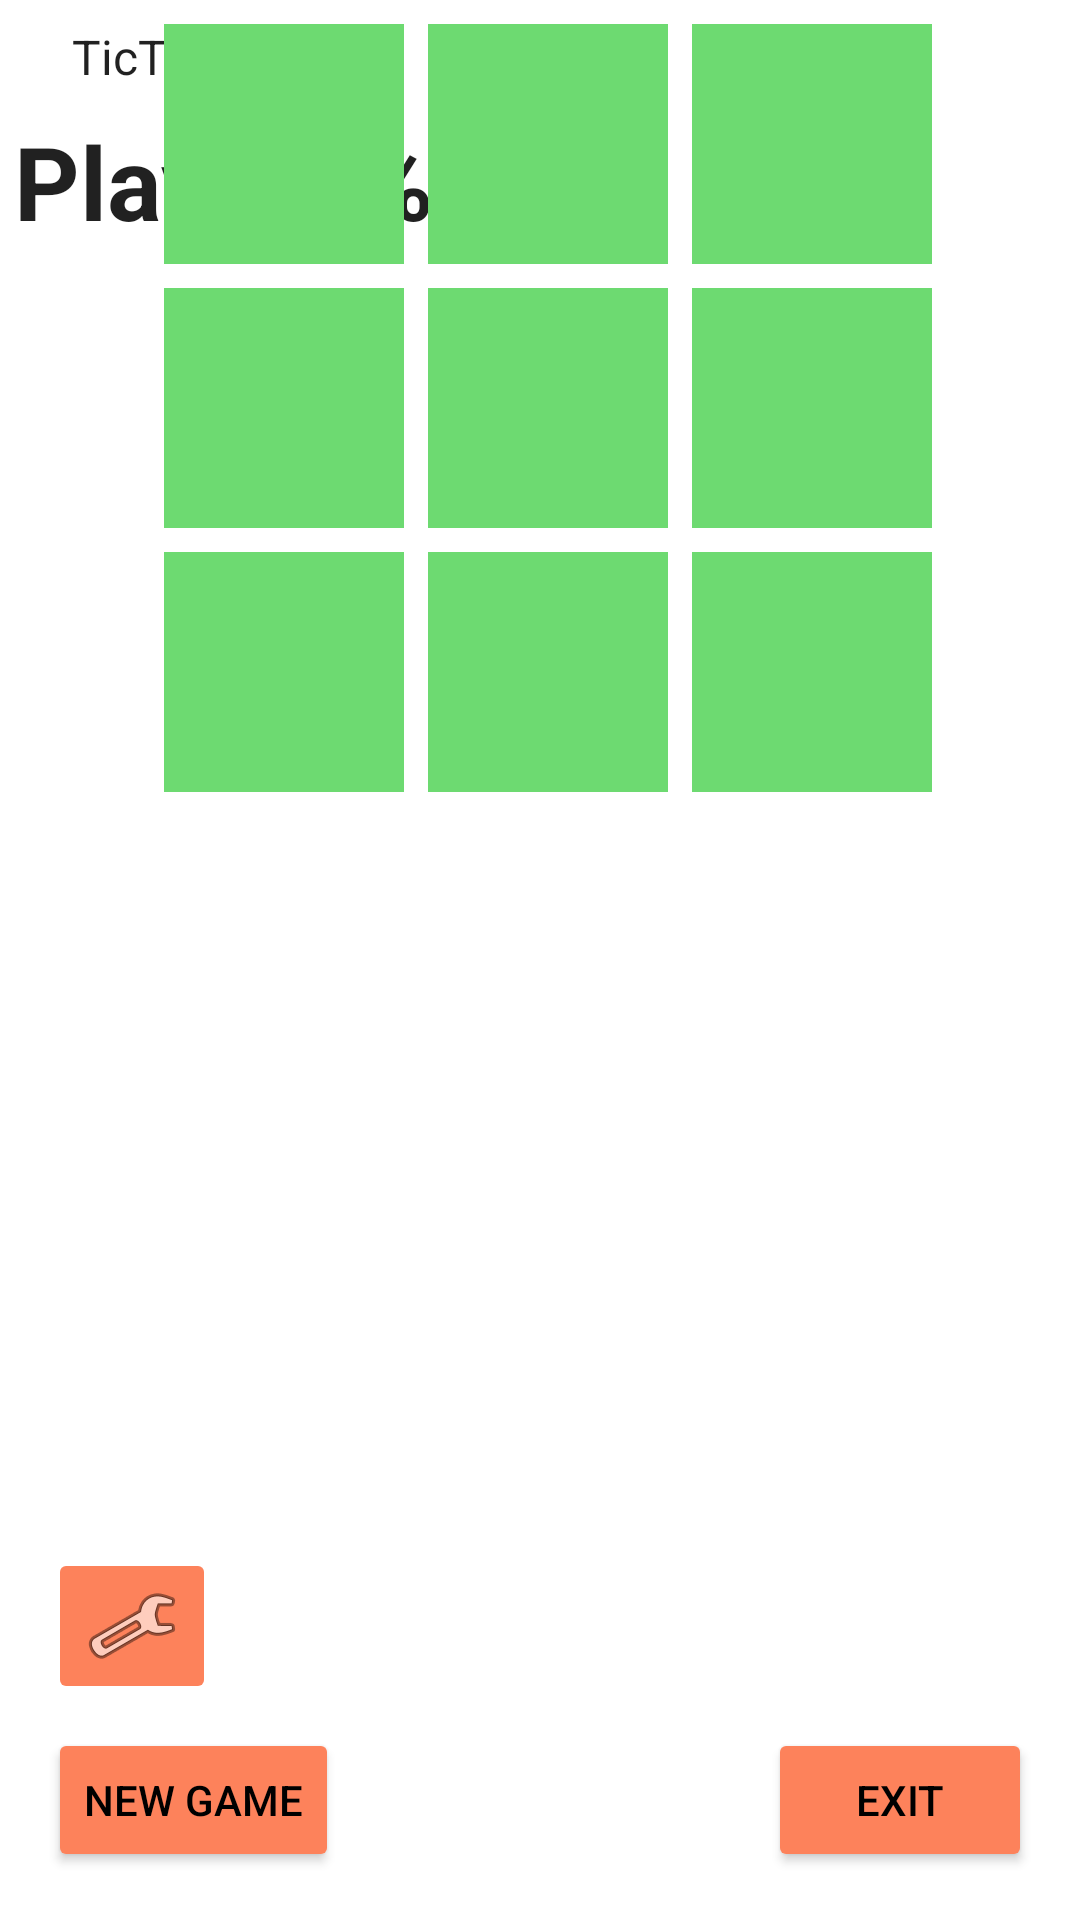

Point at icon controls on the screen. Image size 1080×1920, points as (x=x, y=y).
manage: (x=132, y=1626)
